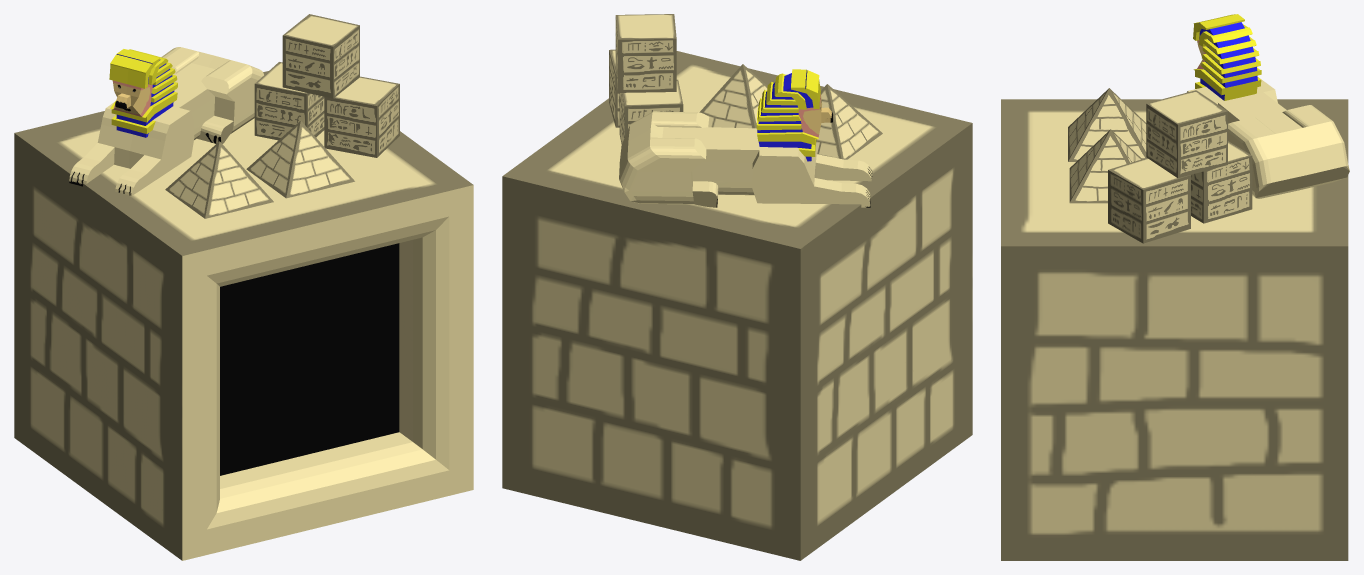
The model's file is Show2.fbx.
The picture shows the model from 3 angles, left to right: view 1: azimuth 30°, elevation 25°; view 2: azimuth 150°, elevation 25°; view 3: azimuth 270°, elevation 25°; orthographic projection. The views are drawn at different scales.
Visible parts, largest first — view 1: Cube.032; view 2: Cube.032; view 3: Cube.032.
Boxes of the visible parts, x1,y1,x2,y2 form: Cube.032: (14,14,473,560); Cube.032: (502,14,972,560); Cube.032: (1001,14,1349,560).
Size of the model in its own units: 205 by 270 by 201.
